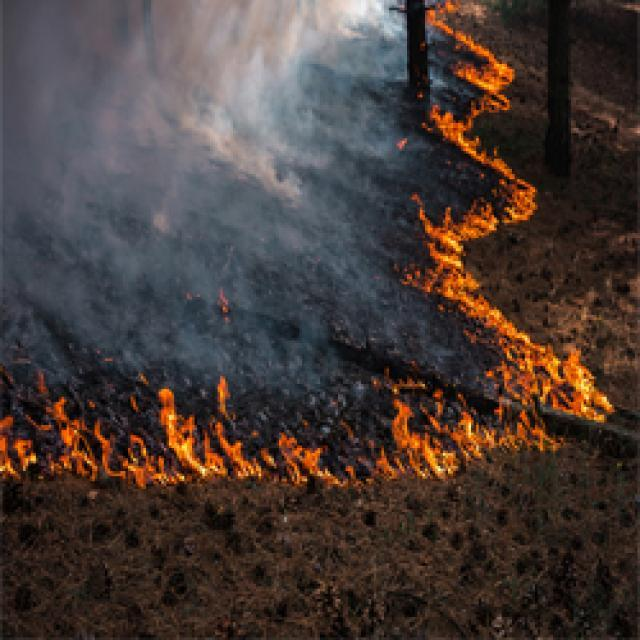Fire: (1, 398, 556, 492), (420, 201, 612, 422), (420, 0, 538, 200)
Smoke: (0, 0, 438, 402)
